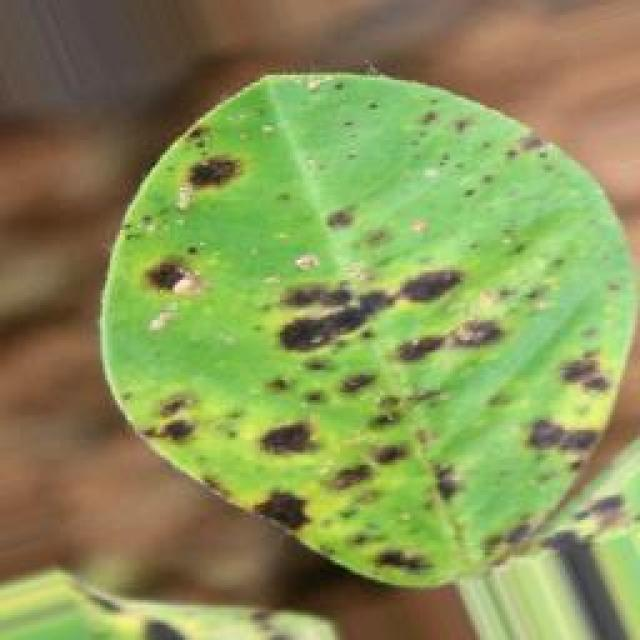Yellowish: (49, 62, 565, 605)
